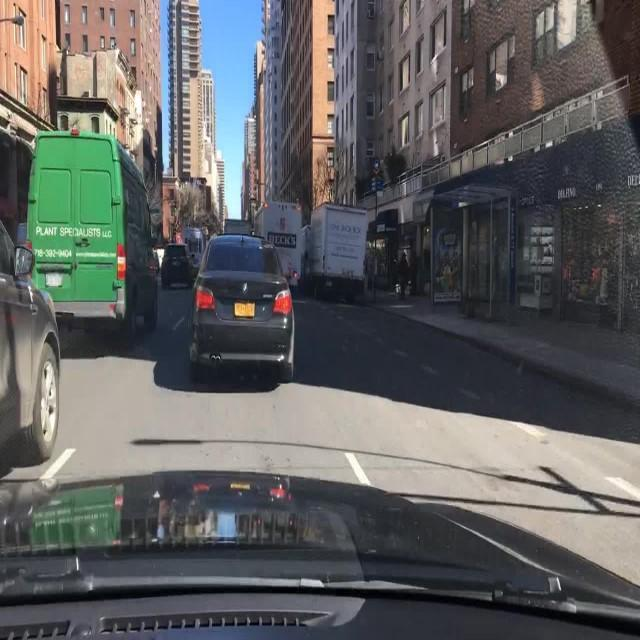normal: (165, 186, 327, 410)
